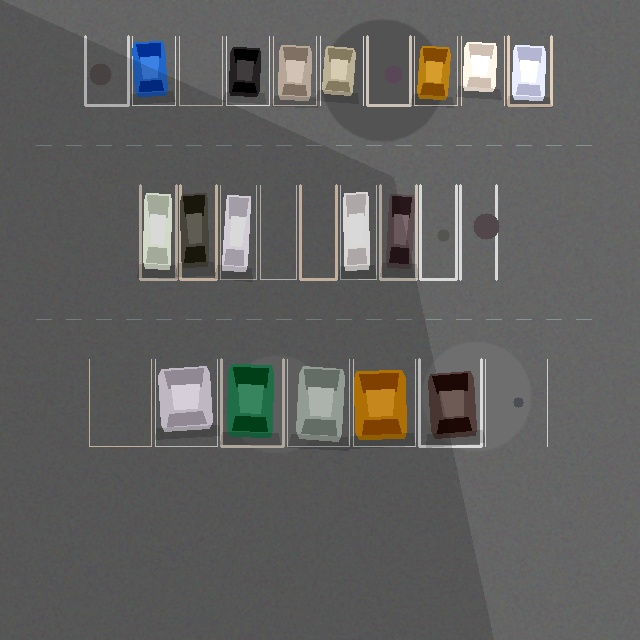space-empty: (89, 359, 151, 446), (485, 359, 547, 446), (260, 185, 296, 279), (300, 185, 336, 279), (420, 185, 456, 279), (460, 185, 496, 279), (85, 36, 128, 105), (179, 36, 222, 105), (367, 36, 410, 105)
space-occupied: (155, 359, 217, 446), (221, 359, 283, 446), (287, 359, 349, 446), (353, 359, 415, 446), (419, 359, 481, 446), (140, 185, 176, 279), (180, 185, 216, 279), (220, 185, 256, 279), (340, 185, 376, 279), (380, 185, 416, 279), (132, 36, 175, 105), (226, 36, 269, 105), (273, 36, 316, 105), (320, 36, 363, 105), (414, 36, 457, 105), (461, 36, 504, 105), (508, 36, 551, 105)
